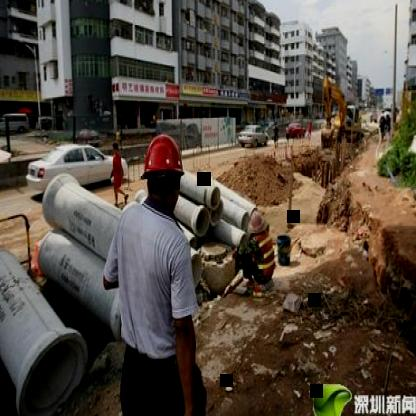helmet: (136, 125, 190, 211)
